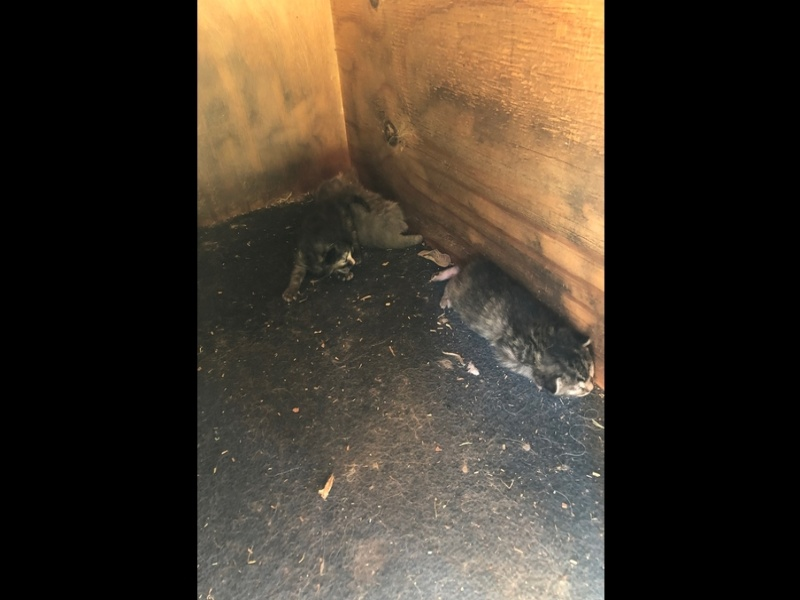cat: (438, 253, 596, 400), (275, 173, 421, 304)
